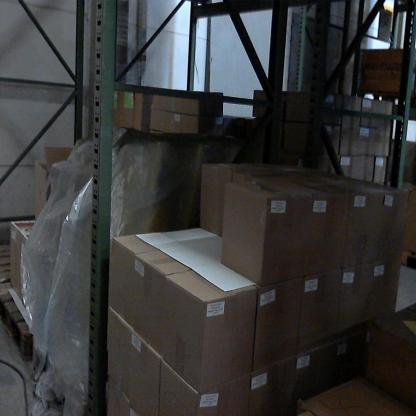pallet: (1, 291, 51, 365), (1, 224, 45, 296), (360, 82, 413, 128), (395, 244, 414, 273)
